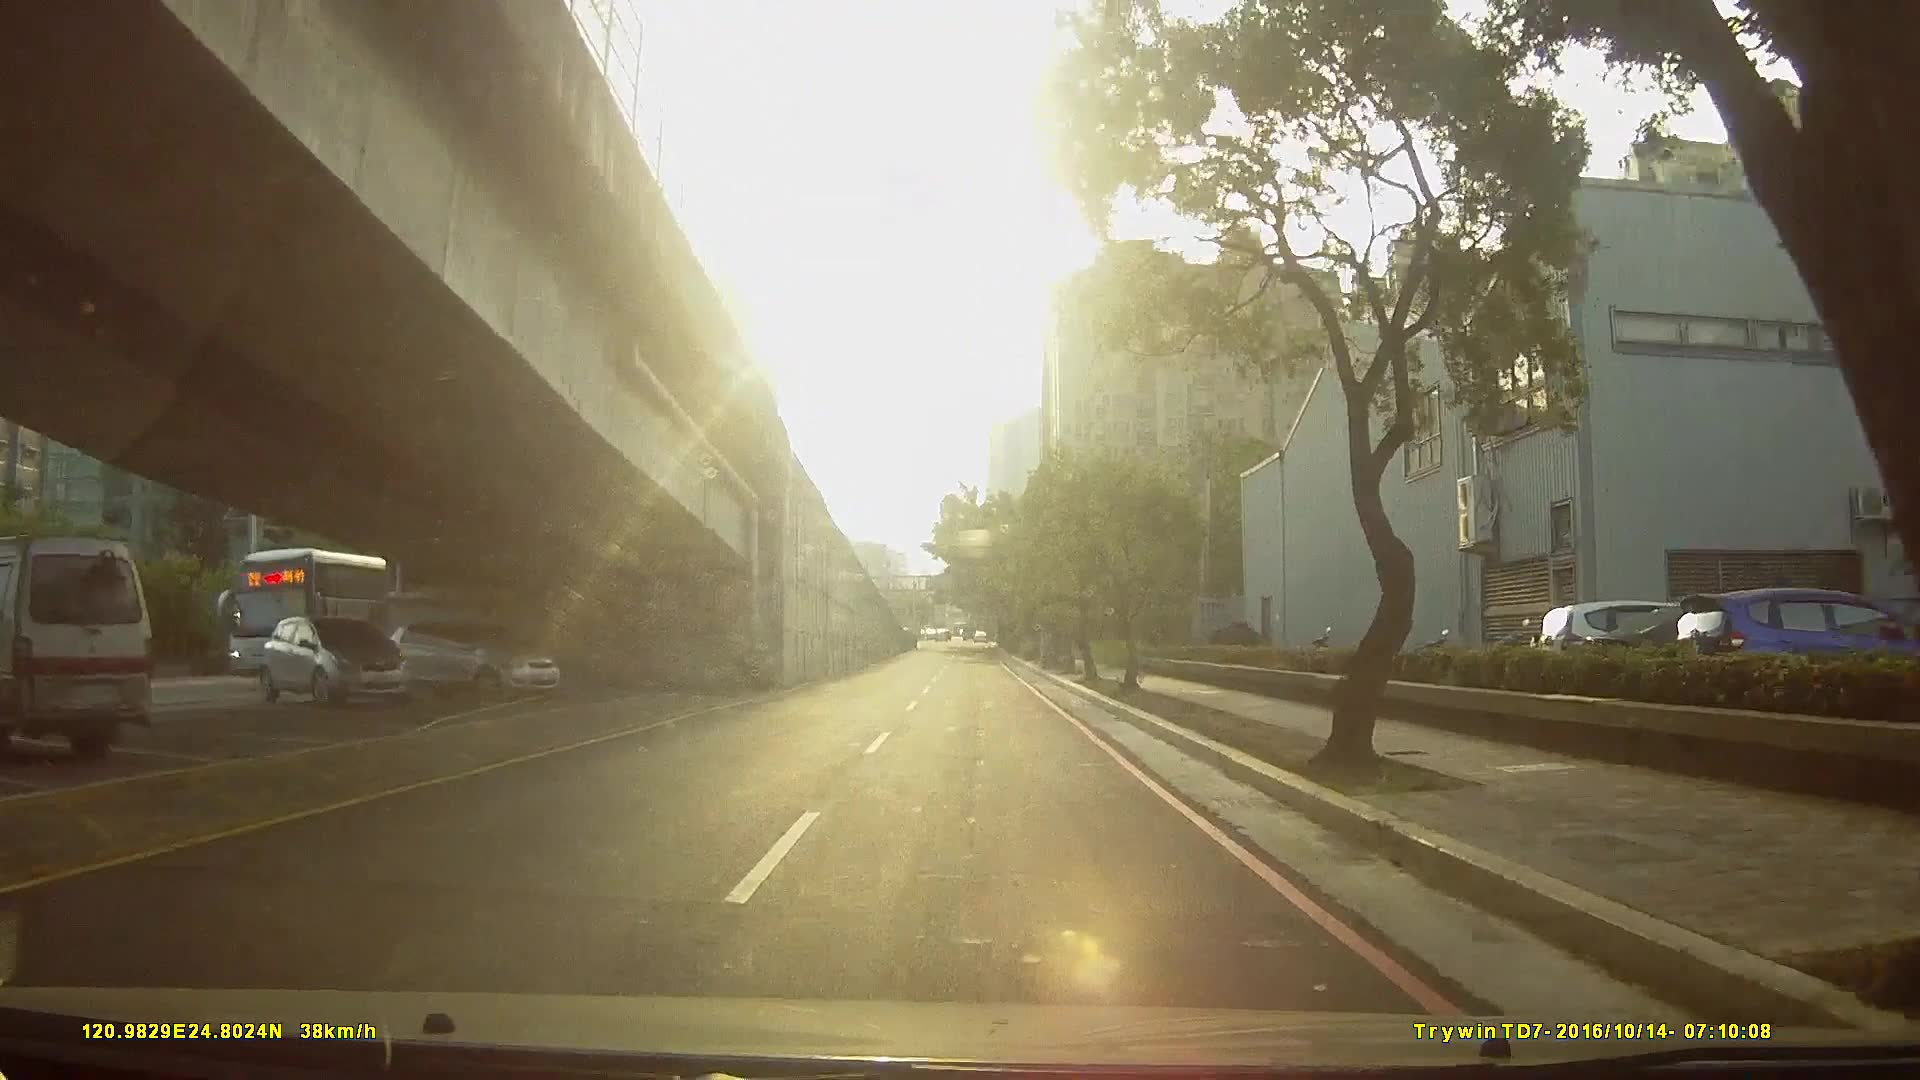vehicle: (1, 530, 171, 770), (215, 542, 456, 695), (375, 618, 556, 704), (247, 613, 404, 707)
